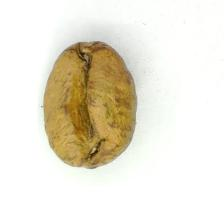NG: (50, 46, 123, 163)
